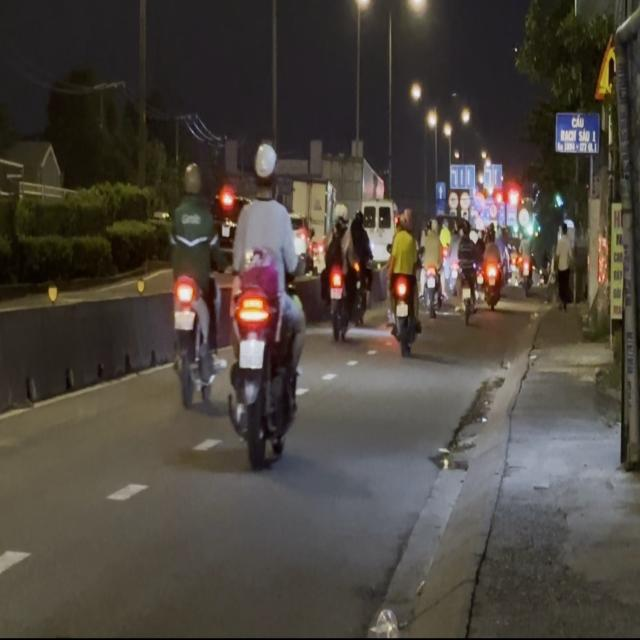helmet: (252, 140, 278, 194), (181, 161, 201, 198)
licenseplate: (225, 140, 306, 467), (165, 158, 225, 408)
nohelmet: (238, 339, 264, 369), (173, 307, 194, 329)
